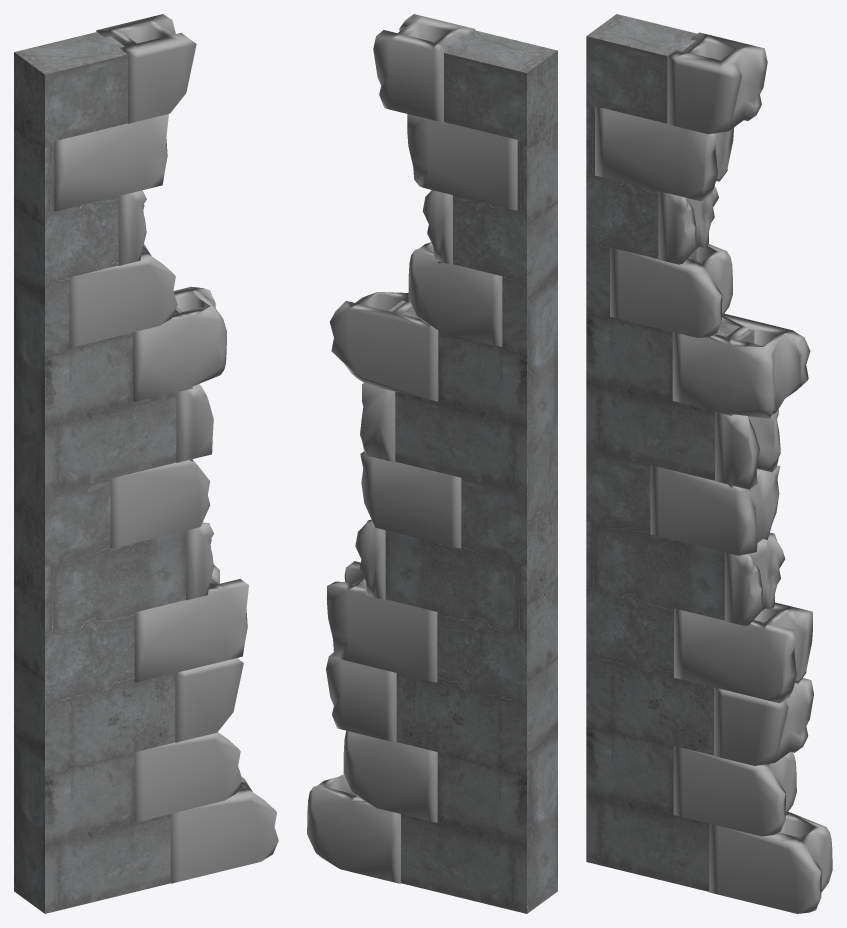
The model's file is wall_Full_1m_Broken_01.fbx.
3 views of the same model, side by side, from view 1: azimuth 30°, elevation 25°; view 2: azimuth 150°, elevation 25°; view 3: azimuth 330°, elevation 25° (orthographic).
Parts seen in each view (by area): view 1: wall_Full_1m_Broken_01; view 2: wall_Full_1m_Broken_01; view 3: wall_Full_1m_Broken_01.
Part boxes in pixels (x1,y1,x2,y2): wall_Full_1m_Broken_01: [14, 14, 278, 913]; wall_Full_1m_Broken_01: [307, 14, 557, 913]; wall_Full_1m_Broken_01: [586, 14, 832, 913].
Bounding box in the file's own units: 87.73 × 300 × 20.94.
